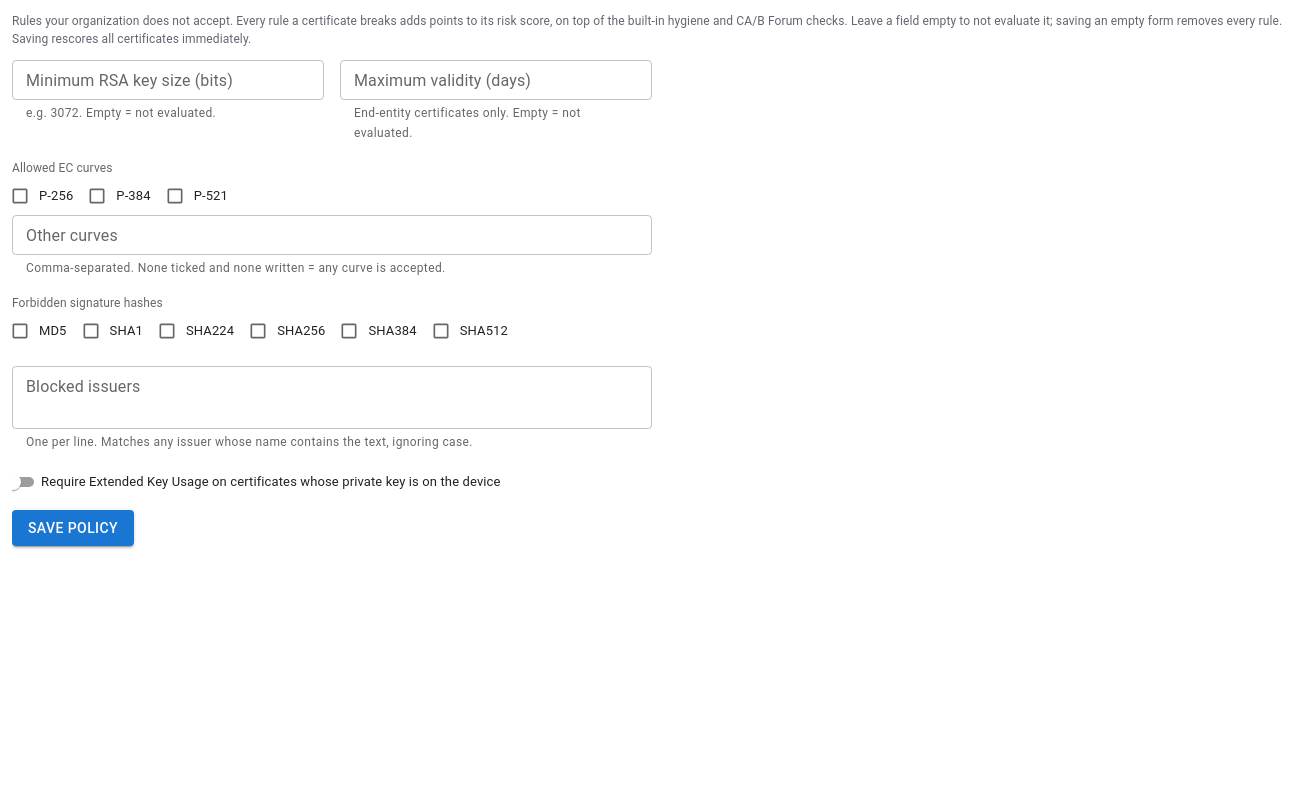
it: CdpCryptoPolicyEditor › ⭐ 503 SCHEMA_NOT_MIGRATED: lo explica y dice que reintentar no sirve
This screenshot has width=1292, height=812.
Click the button "Save policy": (73, 528) x1=12 y1=510 x2=134 y2=546
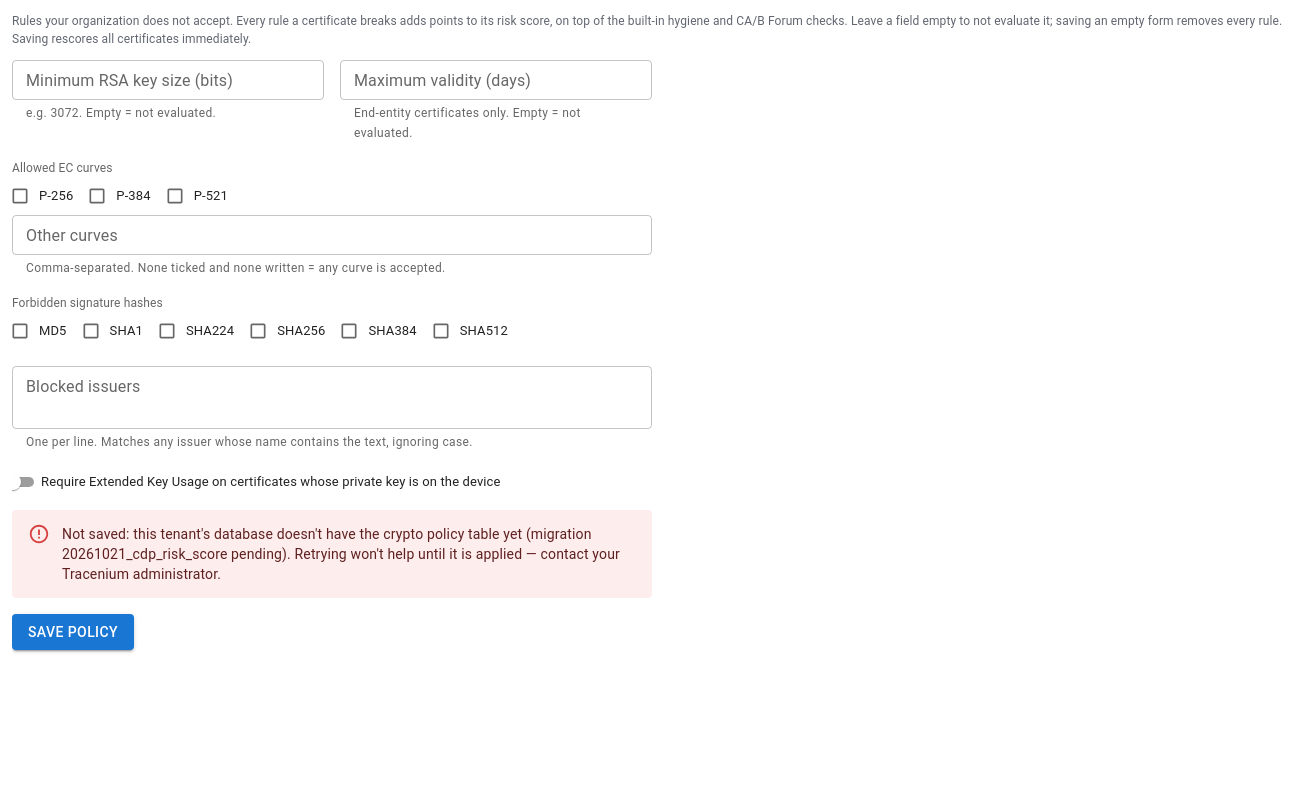
Check: the text "Retrying won't help" is shown, box x1=62 y1=526 x2=620 y2=582
